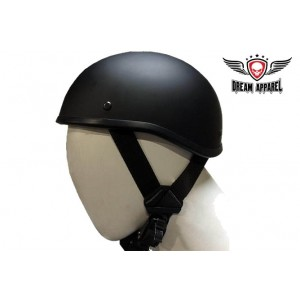with_helmet: (53, 45, 223, 252)
